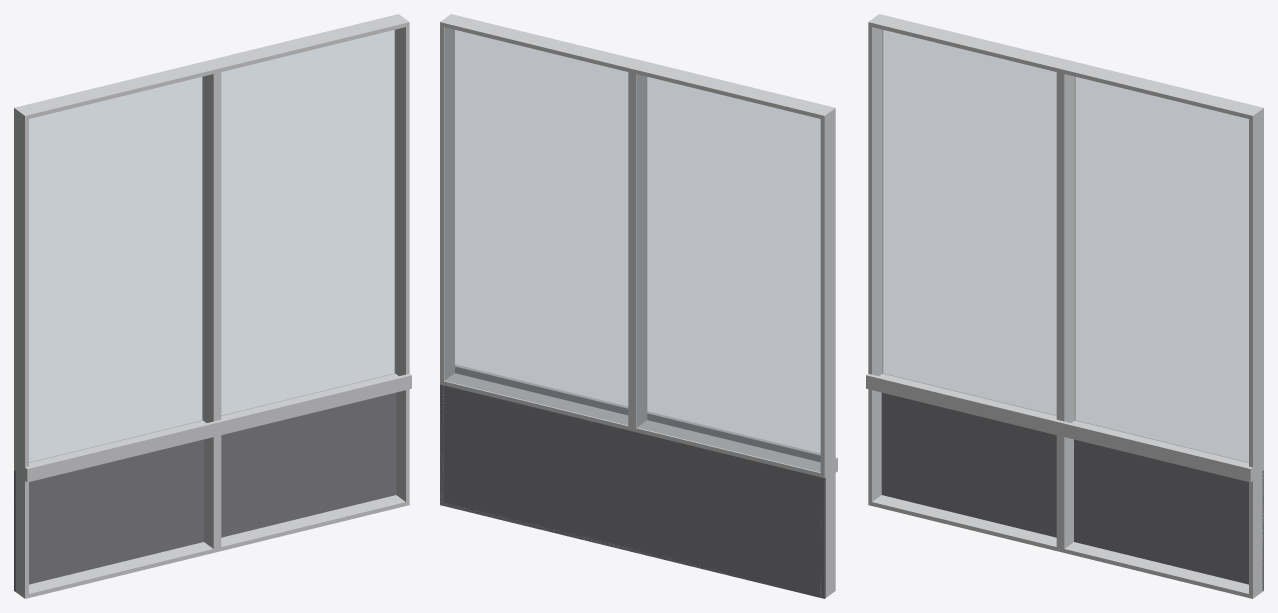
The model's file is win_curtain_3.0x3.6.glb.
3 renders of one model, left to right at view 1: azimuth 30°, elevation 25°; view 2: azimuth 150°, elevation 25°; view 3: azimuth 330°, elevation 25°, orthographic.
Parts seen in each view (by area): view 1: win_curtain; view 2: win_curtain; view 3: win_curtain.
Part boxes in pixels (x1,y1,x2,y2): win_curtain: (14, 14, 411, 598); win_curtain: (440, 14, 837, 598); win_curtain: (866, 14, 1263, 598).
Bounding box in the file's own units: 3 × 3.6 × 0.18.
